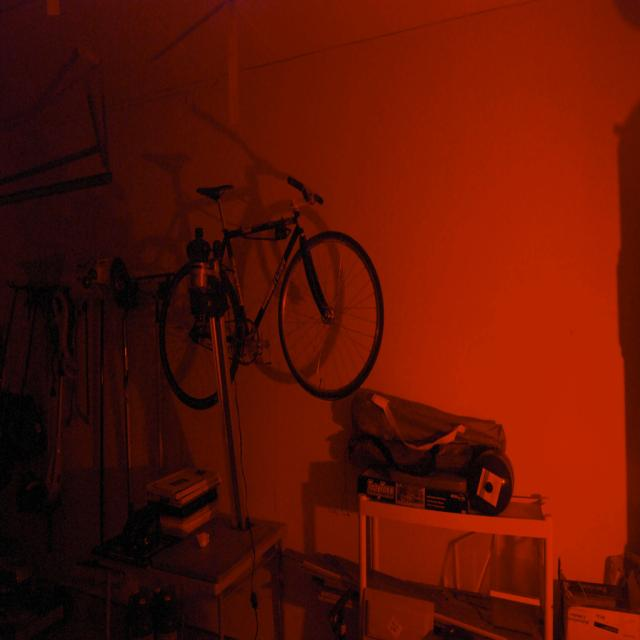Bicycle: (157, 175, 394, 416)
